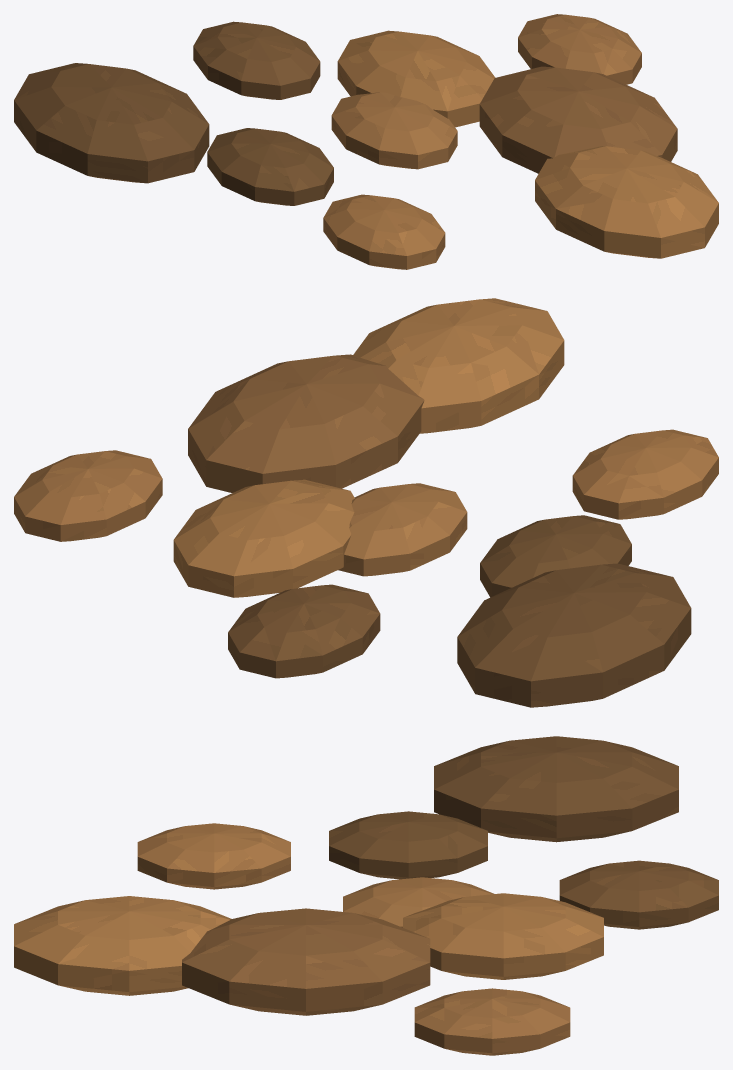
File: seed_zucchini.glb
The picture shows the model from 3 angles, top to bottom: view 1: azimuth 30°, elevation 25°; view 2: azimuth 150°, elevation 25°; view 3: azimuth 270°, elevation 25°; orthographic projection. The views are drawn at different scales.
Parts seen in each view (by area): view 1: block_grain 7, block_grain 8, block_grain 3, block_grain 1, block_grain 4, block_grain 2, block_grain 0, block_grain 5, block_grain 6; view 2: block_grain 7, block_grain 3, block_grain 8, block_grain 1, block_grain 4, block_grain 6, block_grain 5, block_grain 0, block_grain 2; view 3: block_grain 3, block_grain 7, block_grain 8, block_grain 1, block_grain 2, block_grain 6, block_grain 4, block_grain 5, block_grain 0.
Boxes of the visible parts, box(x1,y1,x2,y2) form: block_grain 7: box(14, 63, 209, 183); block_grain 8: box(535, 146, 718, 258); block_grain 3: box(479, 66, 677, 173); block_grain 1: box(337, 30, 495, 127); block_grain 4: box(193, 21, 320, 99); block_grain 2: box(207, 128, 333, 205); block_grain 0: box(331, 92, 457, 169); block_grain 5: box(323, 194, 445, 269); block_grain 6: box(518, 14, 641, 84); block_grain 7: box(457, 563, 691, 707); block_grain 3: box(188, 354, 424, 492); block_grain 8: box(353, 298, 564, 433); block_grain 1: box(173, 479, 354, 597); block_grain 4: box(228, 584, 380, 678); block_grain 6: box(14, 450, 162, 541); block_grain 5: box(572, 429, 718, 519); block_grain 0: box(338, 483, 467, 576); block_grain 2: box(480, 515, 631, 597); block_grain 3: box(182, 908, 430, 1015); block_grain 7: box(434, 736, 678, 842); block_grain 8: box(14, 896, 231, 995); block_grain 1: box(403, 893, 603, 979); block_grain 2: box(329, 811, 487, 879); block_grain 6: box(414, 988, 570, 1055); block_grain 4: box(559, 860, 718, 929); block_grain 5: box(137, 823, 290, 889); block_grain 0: box(343, 877, 493, 927).
Bounding box in the file's own units: 0.0208 × 0.00256 × 0.022.
1 material, 1 textured.
